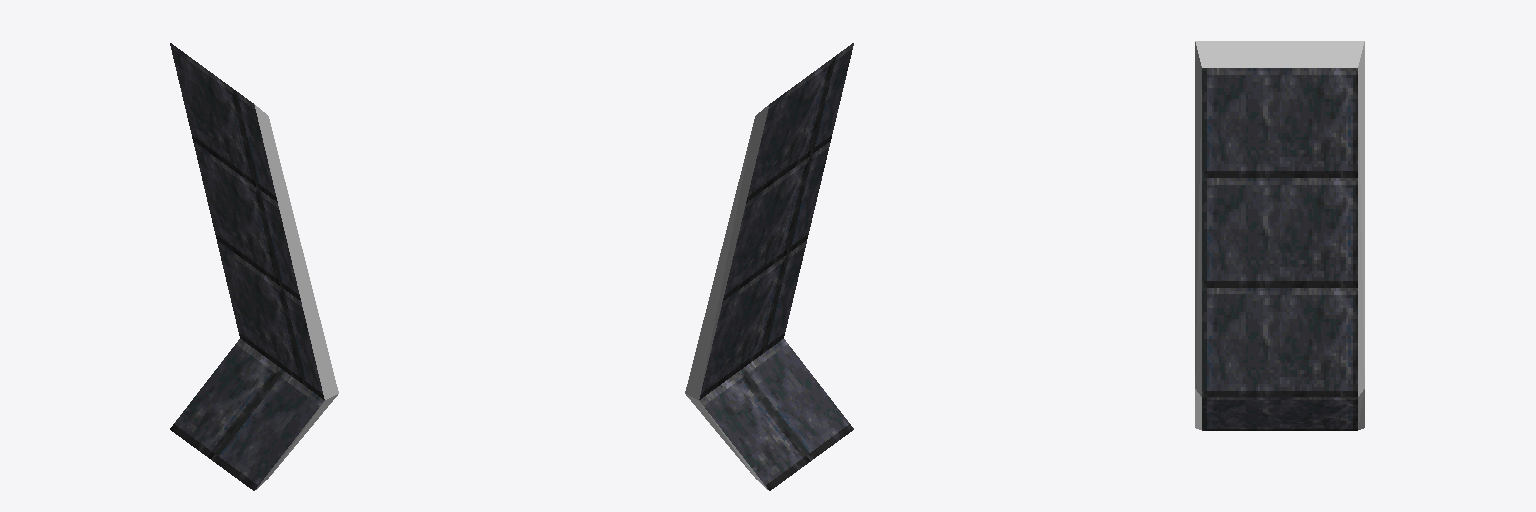
The picture shows the model from 3 angles: view 1: azimuth 30°, elevation 25°; view 2: azimuth 150°, elevation 25°; view 3: azimuth 270°, elevation 25°; orthographic projection.
Visible parts, largest first — view 1: model55007-node_model55007; view 2: model55007-node_model55007; view 3: model55007-node_model55007.
Part boxes in pixels (x1,y1,x2,y2): model55007-node_model55007: (170,43,338,490); model55007-node_model55007: (685,43,853,490); model55007-node_model55007: (1195,41,1364,430).
Size of the model in its own units: 0.75 by 3.15 by 1.25.
2 materials, 1 textured.